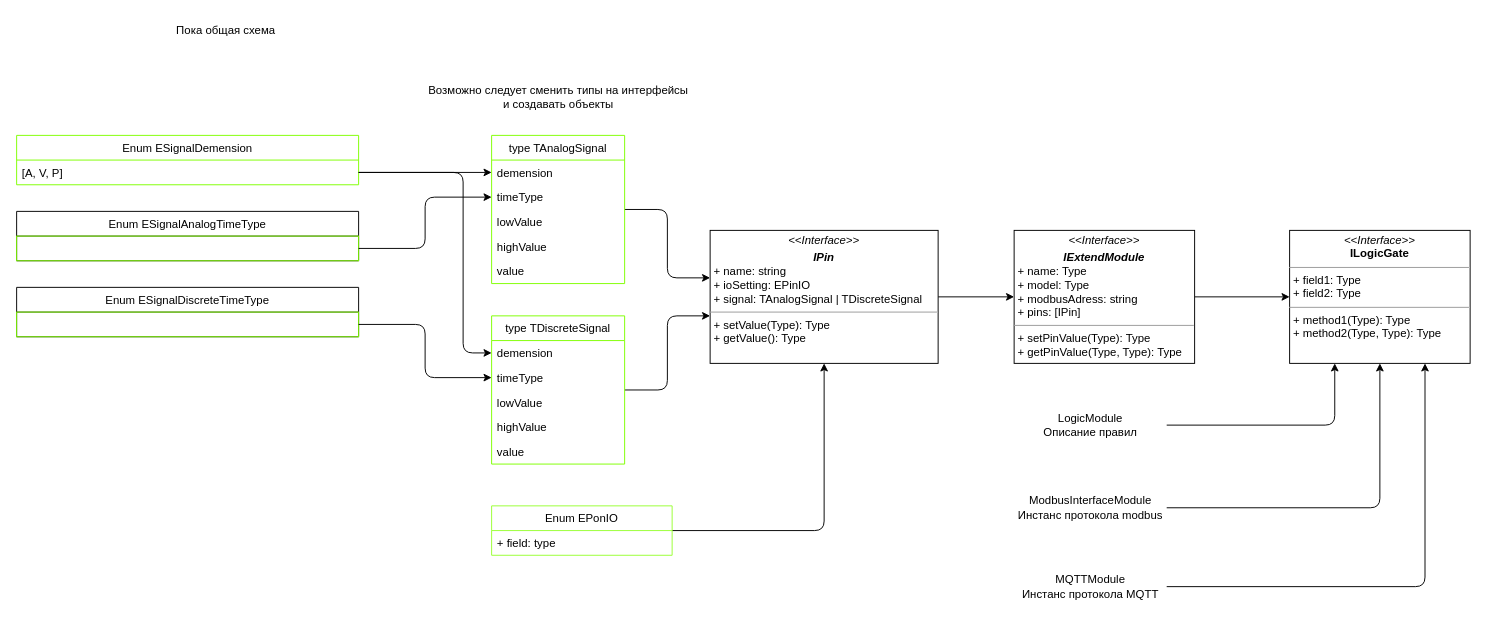
Image size: 1487x627. Some labels were removed from this diagram. Here are the shapes that lost their labels. From the top down, the centre of each, then its label:
At (187,248): "[CONSTANT, VARIABLE, GARMONIC]".
At (187,324): "[RECTANGLE, SWATOOTH, TRIANGULAR, TRAPEZOIDAL]".
